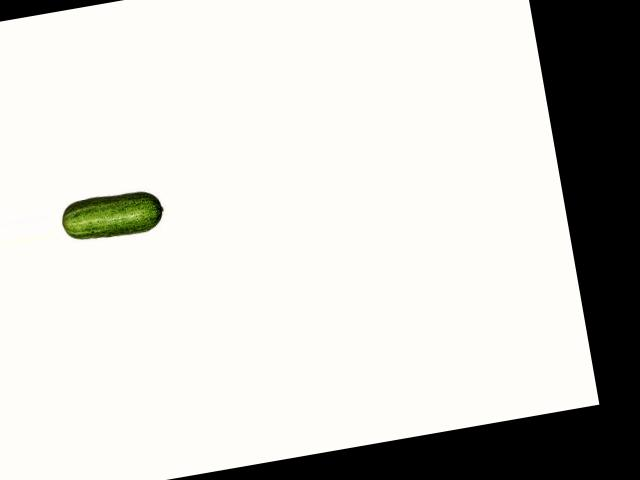cucumber: (59, 186, 166, 244)
